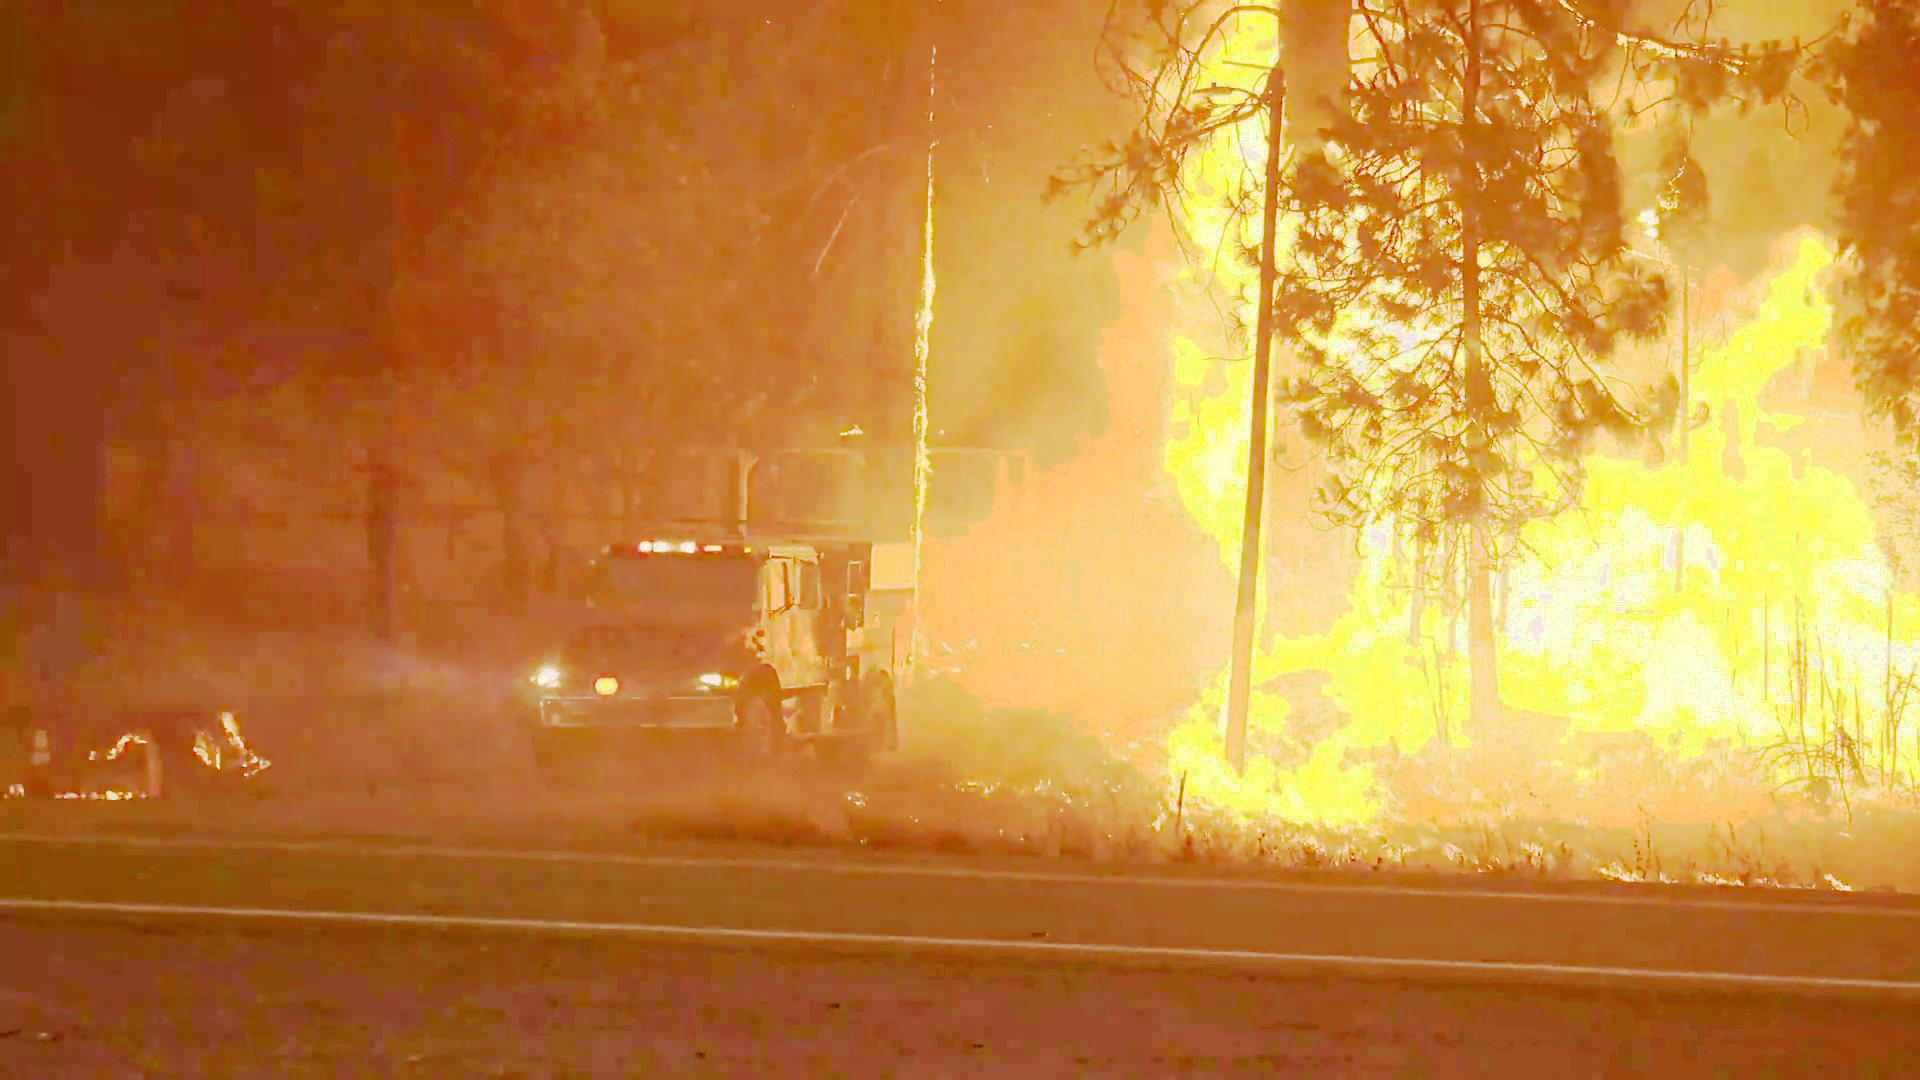fire: (1520, 241, 1898, 766), (1135, 518, 1547, 833), (1146, 0, 1271, 576)
